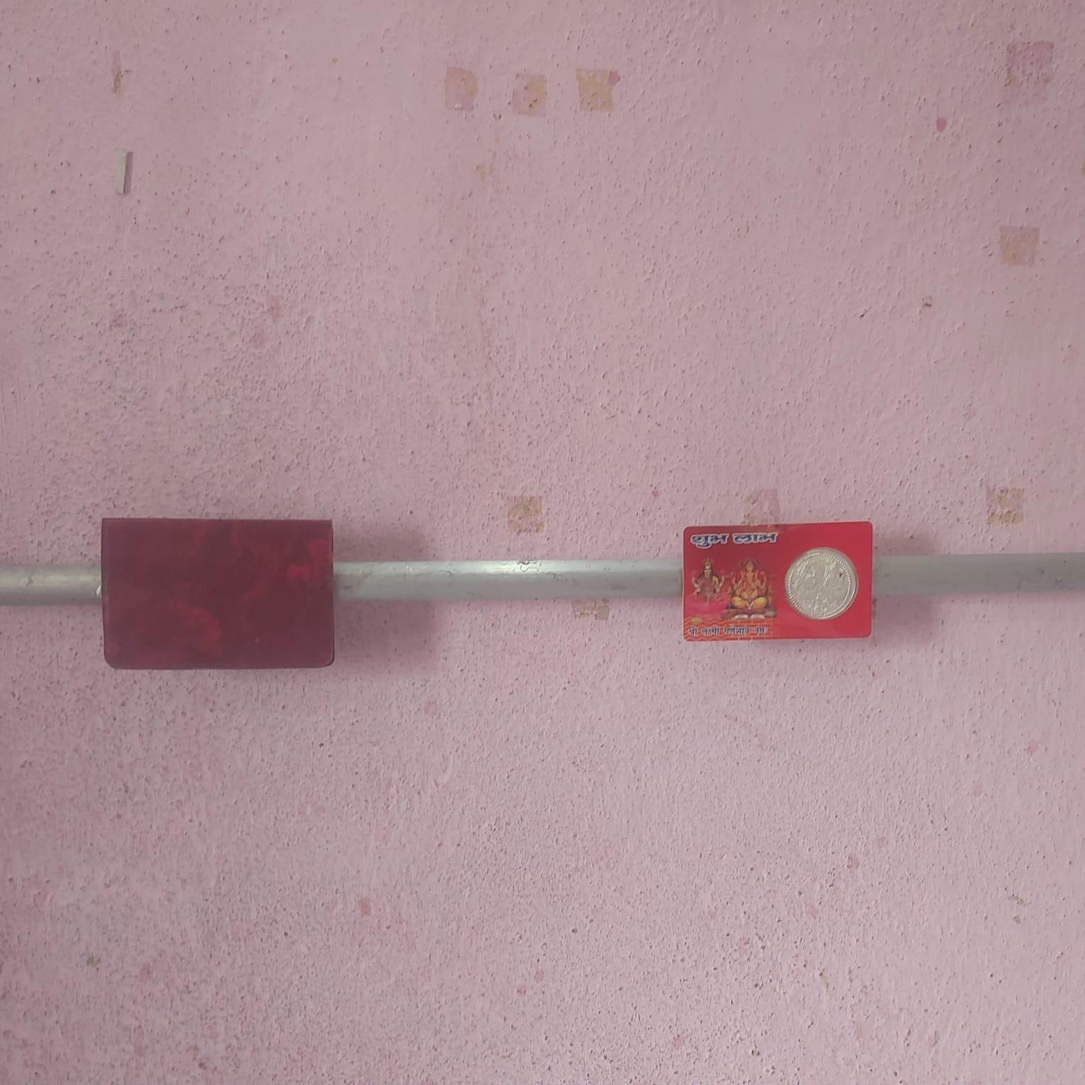blessing_card: (682, 522, 880, 640)
wallet: (101, 514, 334, 668)
